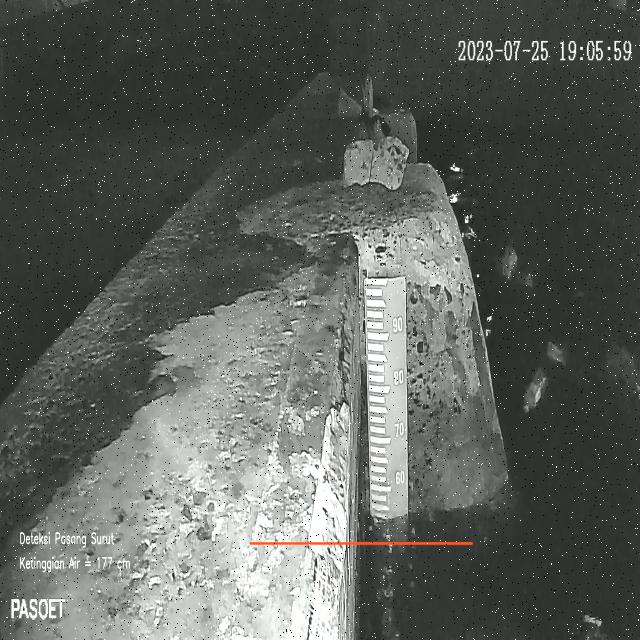60: (395, 469, 406, 487)
70: (394, 420, 404, 440)
80: (393, 368, 404, 386)
90: (392, 316, 404, 335)
staff: (364, 278, 408, 516)
